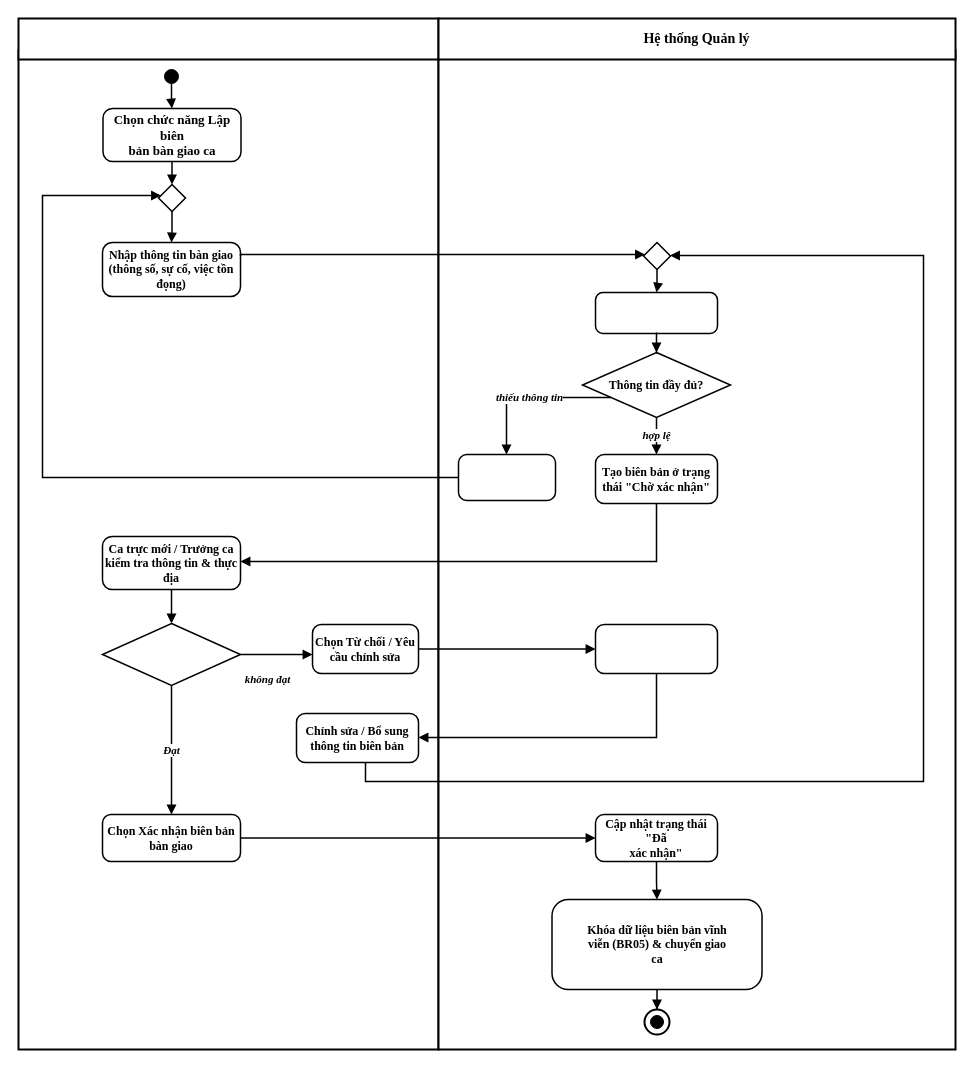
Some shapes in this 973 by 1067 pixel diagram are drawn without their labels. The shapes that lost their labels are listed below. From the top down, each one's box as (x1, y1, x2, y2) in pixels, then its label:
(17, 17, 439, 60): Nhân viên trực (Ca trước và Ca sau / Trưởng ca)
(594, 291, 718, 334): Kiểm tra các trường dữ liệu bắt buộc
(457, 453, 556, 501): Thông báo lỗi, yêu cầu nhập đủ
(101, 622, 241, 686): Kết quả kiểm tra?
(594, 623, 718, 674): Cập nhật trạng thái "Yêu cầu chỉnh sửa"
